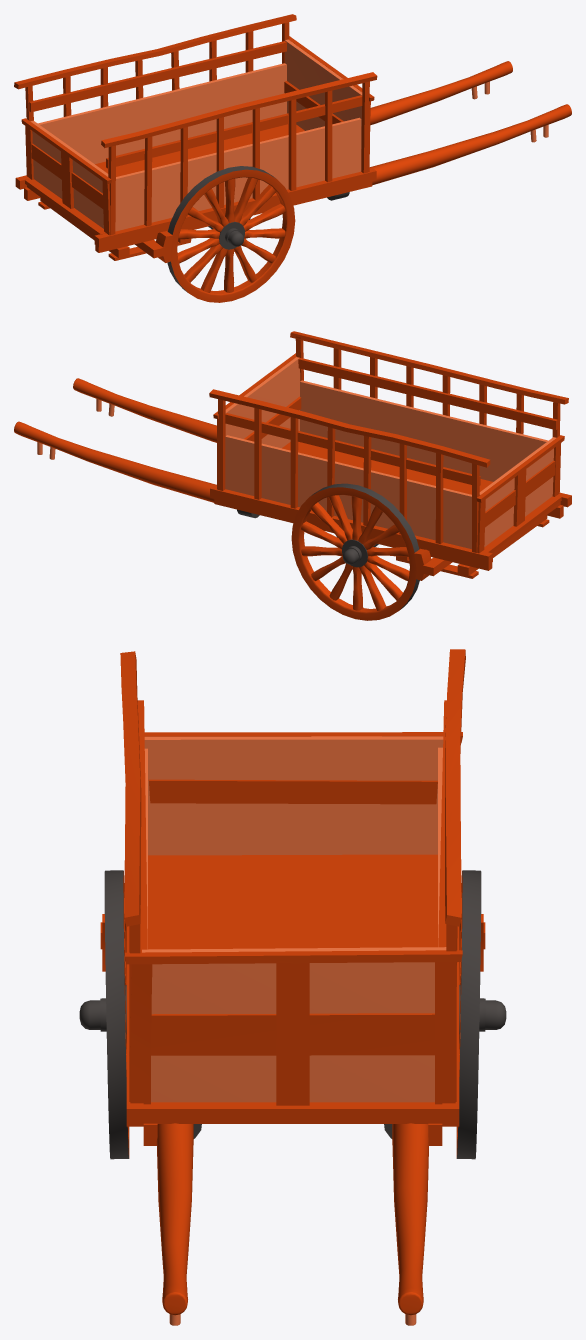
File: wagon1.glb
3 renders of one model, top to bottom at view 1: azimuth 30°, elevation 25°; view 2: azimuth 150°, elevation 25°; view 3: azimuth 270°, elevation 25°, orthographic. The views are drawn at different scales.
Visible parts, largest first — view 1: Wagon1; view 2: Wagon1; view 3: Wagon1.
Part boxes in pixels (left/top/right/bottom): Wagon1: left=14, top=14, right=571, bottom=302; Wagon1: left=14, top=331, right=571, bottom=620; Wagon1: left=79, top=649, right=506, bottom=1325.
Size of what is drawn, in the model's own units: 3.27 by 1.21 by 1.25.
Materials: 1 (1 with a texture image).
